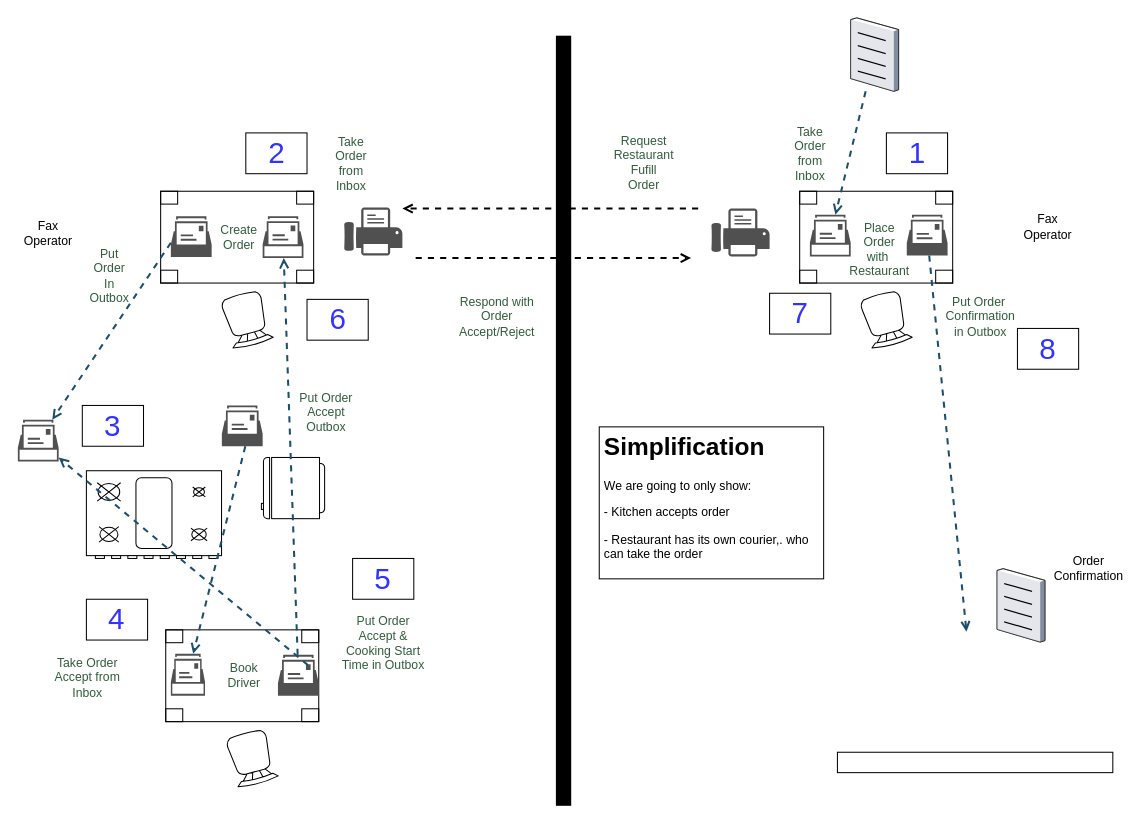
This 1140x823 diagram has some shape labels left out. Each missing label, with the centre of its shape:
"Accept or Reject Order" goes at point 153,514.
"Order Placement" goes at point 974,762.
